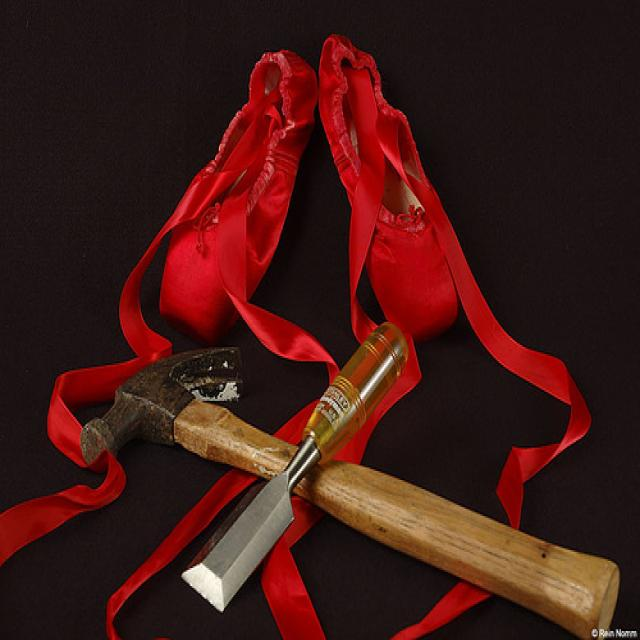hammer: (71, 344, 284, 500)
